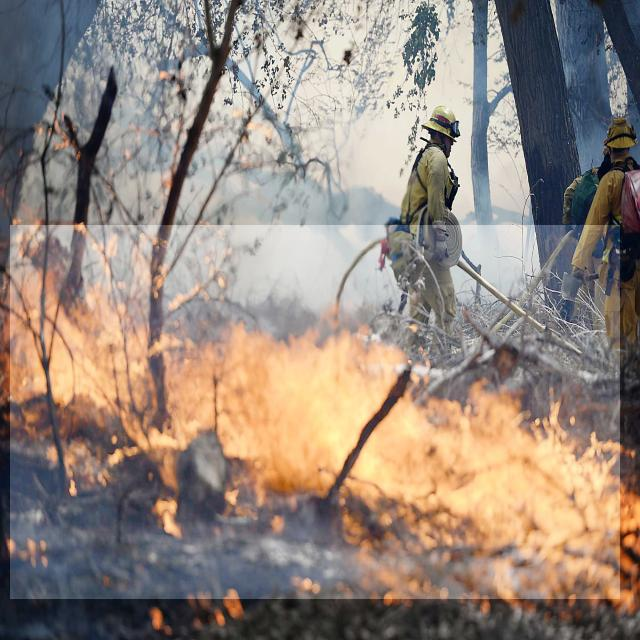Fire: (10, 226, 620, 600)
